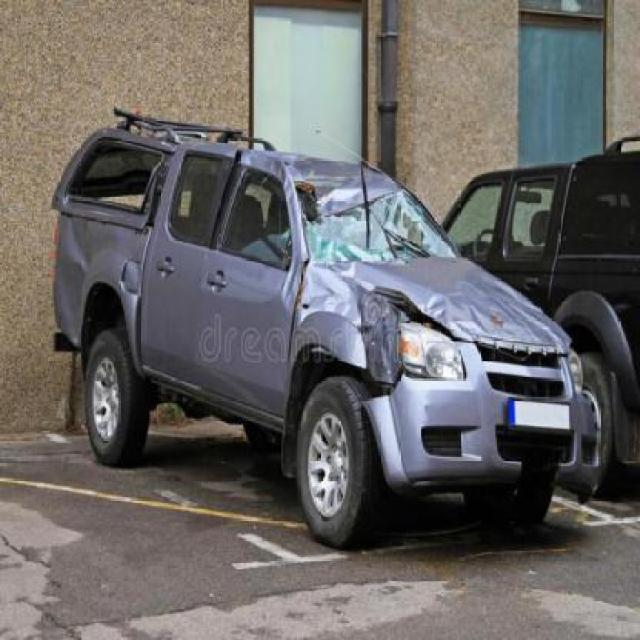Front-Windscreen-Damage: (304, 190, 445, 263)
bonnet-dent: (426, 271, 570, 347)
fender-dent: (284, 267, 396, 385)
front-bumper-dent: (353, 360, 444, 484)
roof-dent: (250, 152, 404, 185)
